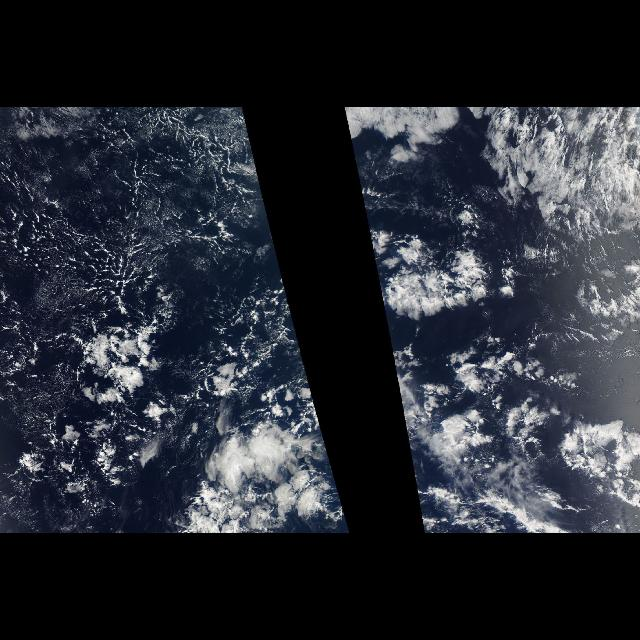Gravel: (7, 107, 247, 310)
Sugar: (1, 108, 270, 340)
